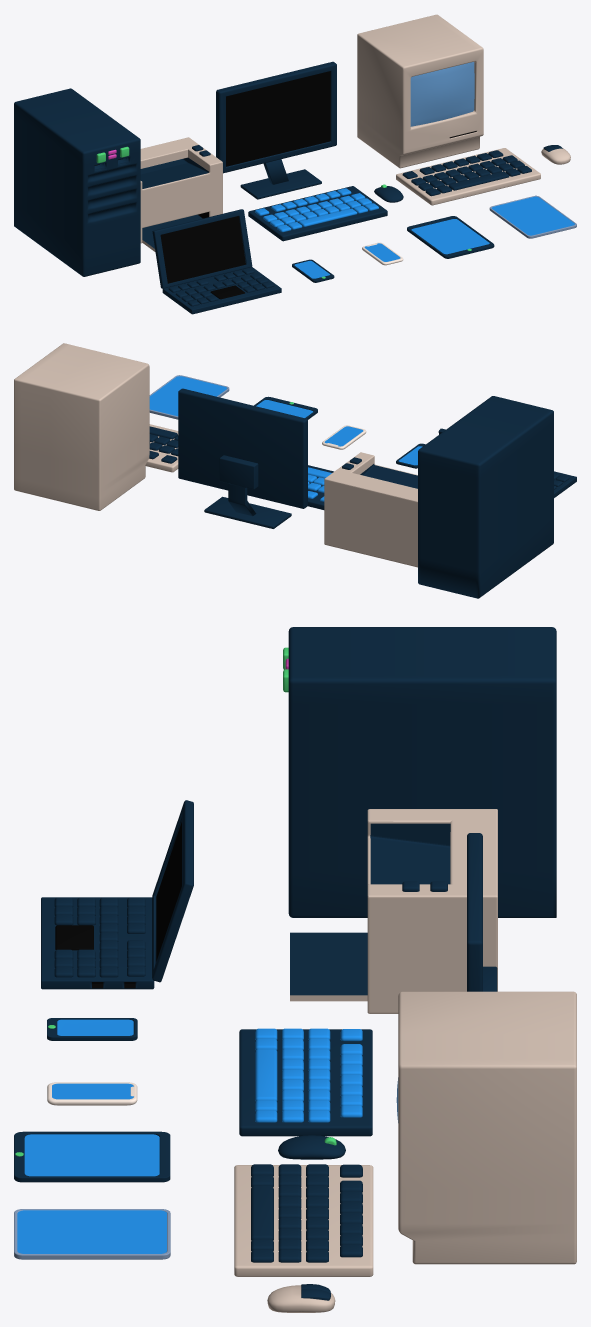
File: computers2.gltf
3 views of the same model, one above another, from view 1: azimuth 30°, elevation 25°; view 2: azimuth 150°, elevation 25°; view 3: azimuth 270°, elevation 25° (orthographic). The views are drawn at different scales.
Parts seen in each view (by area): view 1: Mac, Plane, Monitor, Notebook, Printer, Keyboard, Pad2, Pad, smartphone2, smartphone, Mouse2; view 2: Plane, Mac, Monitor, Printer, Pad2, Keyboard, Pad, smartphone, Notebook, smartphone2; view 3: Mac, Plane, Printer, Notebook, Keyboard, Pad, Pad2, Monitor, smartphone, smartphone2, Mouse2, Mouse.
Part boxes in pixels (bbox=[...]): Mac: bbox=[357, 14, 540, 205]; Plane: bbox=[14, 88, 140, 276]; Monitor: bbox=[216, 61, 336, 199]; Notebook: bbox=[152, 209, 281, 314]; Printer: bbox=[140, 137, 222, 252]; Keyboard: bbox=[248, 186, 387, 241]; Pad2: bbox=[489, 195, 576, 238]; Pad: bbox=[407, 216, 494, 258]; smartphone2: bbox=[292, 259, 334, 282]; smartphone: bbox=[362, 242, 403, 265]; Mouse2: bbox=[541, 145, 570, 164]; Plane: bbox=[418, 396, 553, 598]; Mac: bbox=[14, 343, 178, 510]; Monitor: bbox=[178, 388, 307, 528]; Printer: bbox=[324, 452, 417, 567]; Pad2: bbox=[149, 375, 229, 419]; Keyboard: bbox=[308, 465, 333, 509]; Pad: bbox=[254, 396, 317, 419]; smartphone: bbox=[322, 425, 366, 449]; Notebook: bbox=[438, 428, 576, 497]; smartphone2: bbox=[396, 443, 425, 468]; Mac: bbox=[234, 991, 576, 1276]; Plane: bbox=[283, 627, 556, 917]; Printer: bbox=[290, 809, 497, 1013]; Notebook: bbox=[41, 800, 193, 989]; Keyboard: bbox=[239, 1028, 372, 1136]; Pad: bbox=[14, 1131, 170, 1182]; Pad2: bbox=[14, 1209, 170, 1259]; Monitor: bbox=[467, 833, 497, 991]; smartphone: bbox=[47, 1082, 137, 1105]; smartphone2: bbox=[47, 1018, 137, 1040]; Mouse2: bbox=[267, 1284, 335, 1312]; Mouse: bbox=[278, 1135, 345, 1159].
Size of the model in its own units: 16.44 by 4.06 by 8.63.
